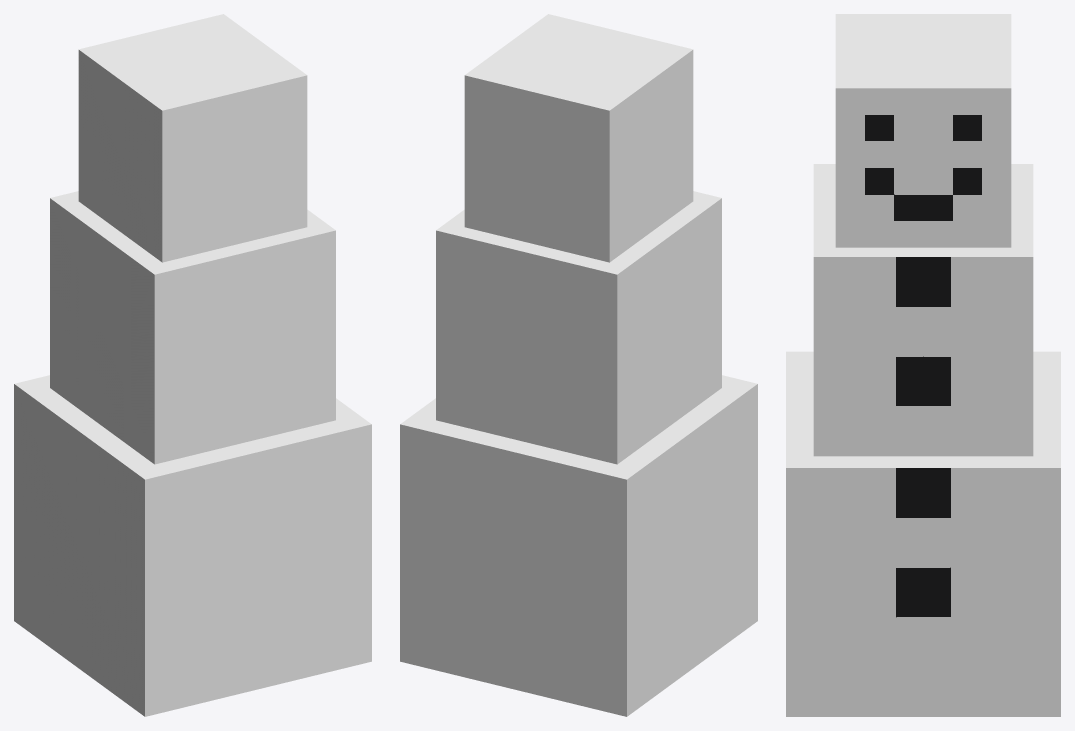
The model's file is snow_man.gltf.
The picture shows the model from 3 angles, left to right: view 1: azimuth 30°, elevation 25°; view 2: azimuth 150°, elevation 25°; view 3: azimuth 270°, elevation 25°; orthographic projection. The views are drawn at different scales.
Visible parts, largest first — view 1: cube (×3); view 2: cube (×3); view 3: cube (×3).
Part boxes in pixels (x1,y1,x2,y2): cube (×3): [14, 14, 371, 716]; cube (×3): [400, 14, 757, 716]; cube (×3): [786, 14, 1060, 716].
Bounding box in the file's own units: 0.625 × 1.52 × 0.625.
1 material, 1 textured.
